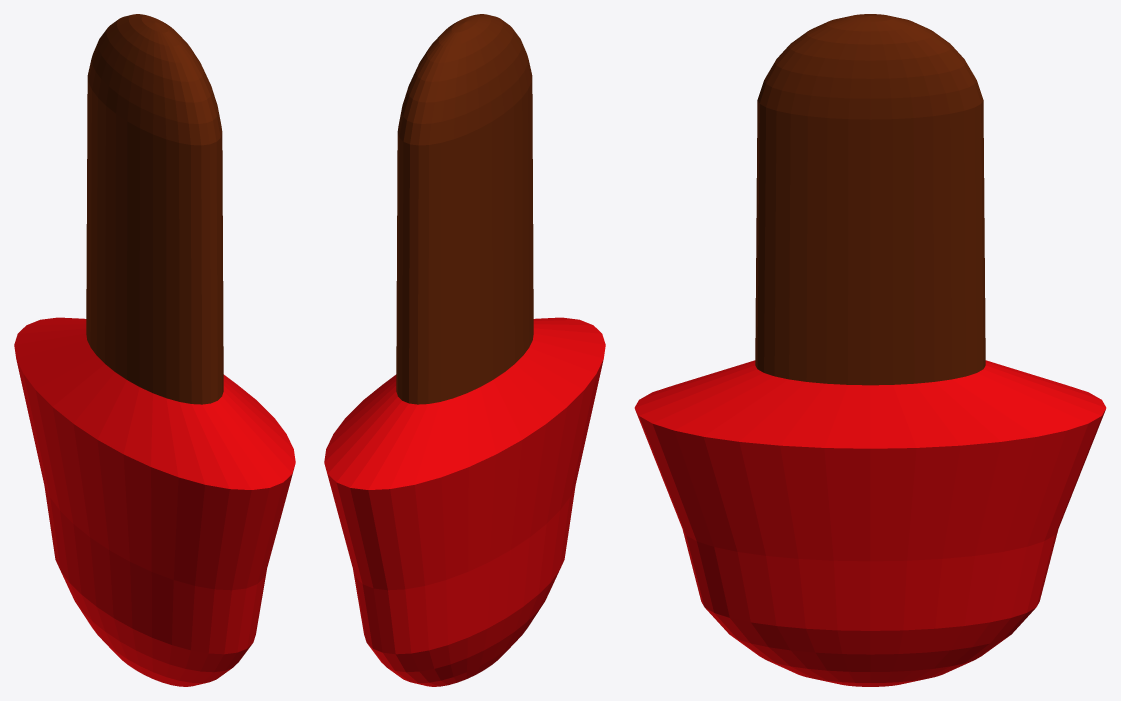
The model's file is badile_seed.glb.
3 renders of one model, left to right at view 1: azimuth 30°, elevation 25°; view 2: azimuth 150°, elevation 25°; view 3: azimuth 270°, elevation 25°, orthographic. The views are drawn at different scales.
Visible parts, largest first — view 1: Sphere; view 2: Sphere; view 3: Sphere.
Boxes of the visible parts, x1,y1,x2,y2 form: Sphere: (14,14,295,686); Sphere: (324,14,605,686); Sphere: (634,14,1106,686).
Bounding box in the file's own units: 0.3584 × 1.36 × 0.8743.
